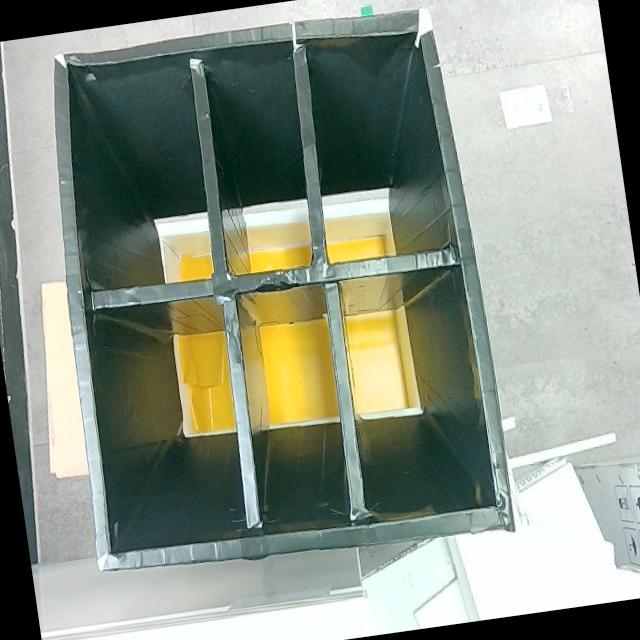box: (15, 0, 524, 590)
